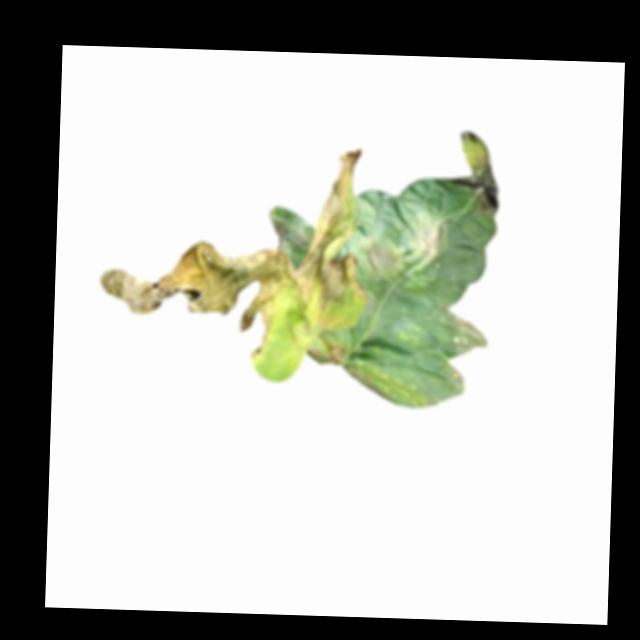Late_blight: (98, 136, 372, 336), (444, 127, 505, 215), (408, 207, 457, 273), (443, 307, 491, 356), (357, 234, 403, 281), (306, 341, 347, 365), (443, 361, 465, 397)
